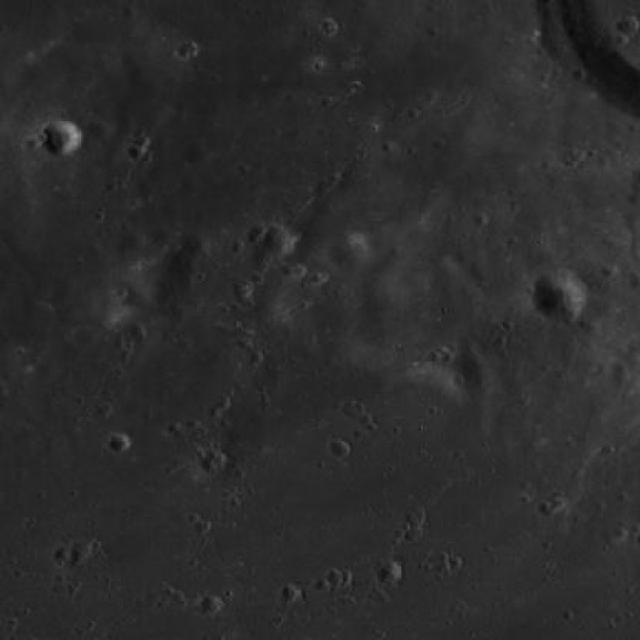crater: (534, 272, 590, 322), (44, 119, 84, 156), (332, 237, 368, 270), (264, 228, 298, 258), (248, 242, 277, 270), (119, 230, 147, 255), (184, 232, 210, 256), (90, 118, 116, 142), (378, 562, 402, 584), (202, 452, 226, 474), (72, 540, 95, 562), (200, 596, 223, 618), (617, 16, 640, 38), (109, 434, 131, 454), (188, 144, 210, 164), (34, 357, 56, 377), (231, 276, 251, 296), (249, 223, 269, 242), (153, 229, 173, 248), (332, 440, 352, 458), (343, 400, 363, 418), (180, 42, 200, 60), (621, 349, 640, 367), (583, 318, 600, 336), (120, 2, 138, 18), (614, 366, 631, 382), (175, 333, 192, 349), (98, 404, 114, 419)
